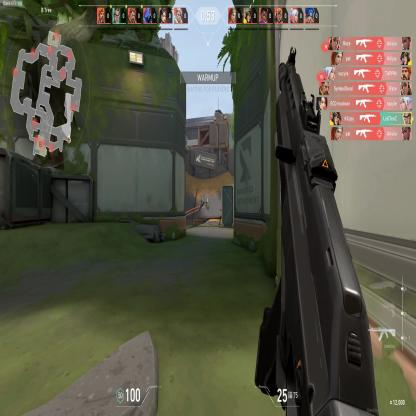enemy: (218, 205, 221, 225)
